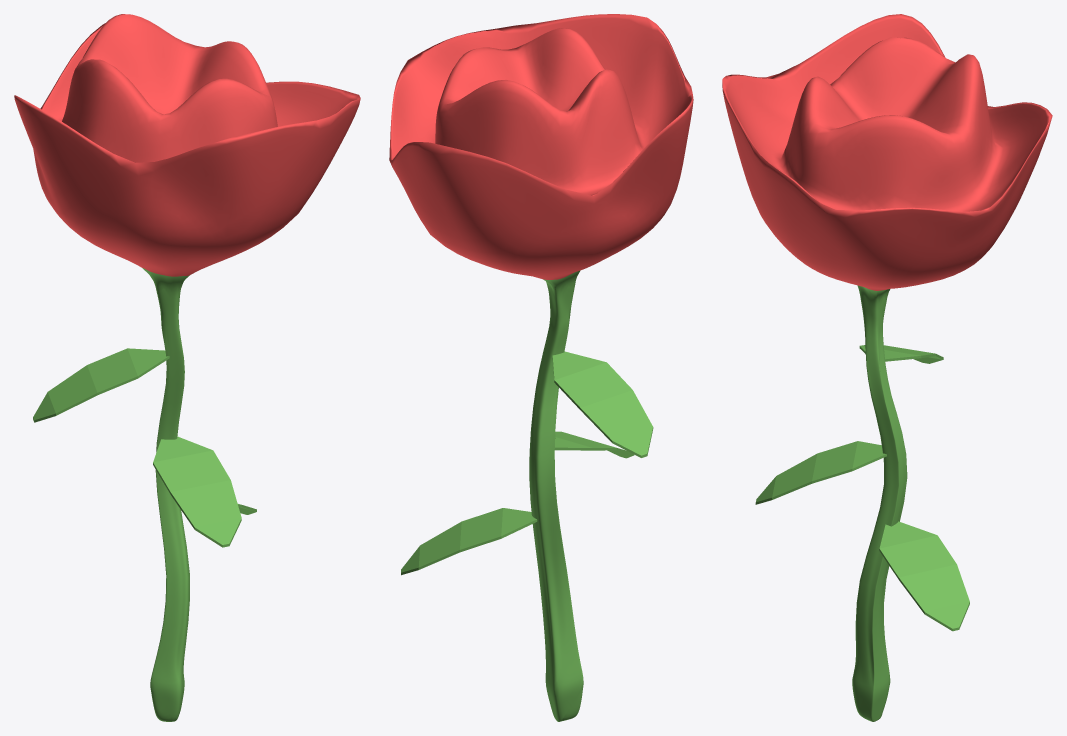
Rendered from roseNew.fbx.
3 views of the same model, side by side, from view 1: azimuth 30°, elevation 25°; view 2: azimuth 150°, elevation 25°; view 3: azimuth 270°, elevation 25° (orthographic).
Parts seen in each view (by area): view 1: SM_Env_Flower_01, pCube2, pCube1; view 2: SM_Env_Flower_01, pCube1, pCube3, pCube2; view 3: SM_Env_Flower_01, pCube3, pCube2, pCube1.
Boxes of the visible parts, x1,y1,x2,y2 form: SM_Env_Flower_01: [14, 14, 360, 721]; pCube2: [153, 436, 241, 547]; pCube1: [33, 348, 169, 422]; SM_Env_Flower_01: [389, 14, 693, 721]; pCube1: [552, 351, 653, 457]; pCube3: [401, 508, 537, 575]; pCube2: [555, 431, 634, 458]; SM_Env_Flower_01: [722, 14, 1052, 721]; pCube3: [879, 521, 969, 631]; pCube2: [755, 441, 886, 504]; pCube1: [859, 345, 943, 363].
Bounding box in the file's own units: 4.34 × 9.04 × 4.08.
